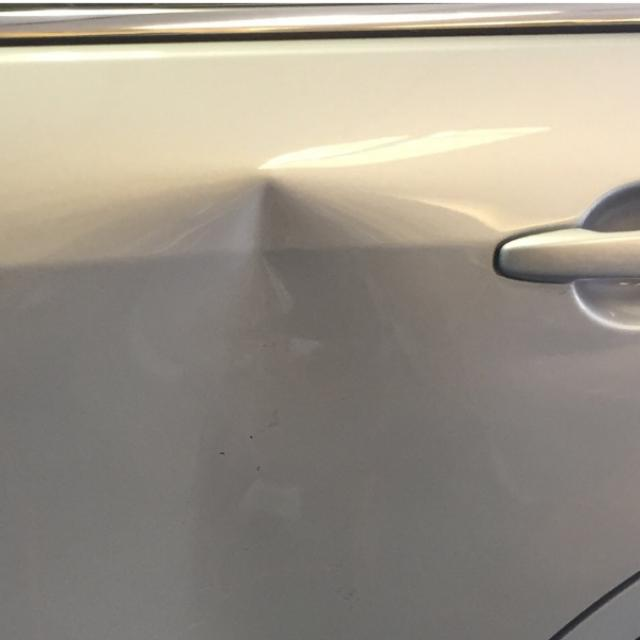dents: (148, 154, 422, 424)
